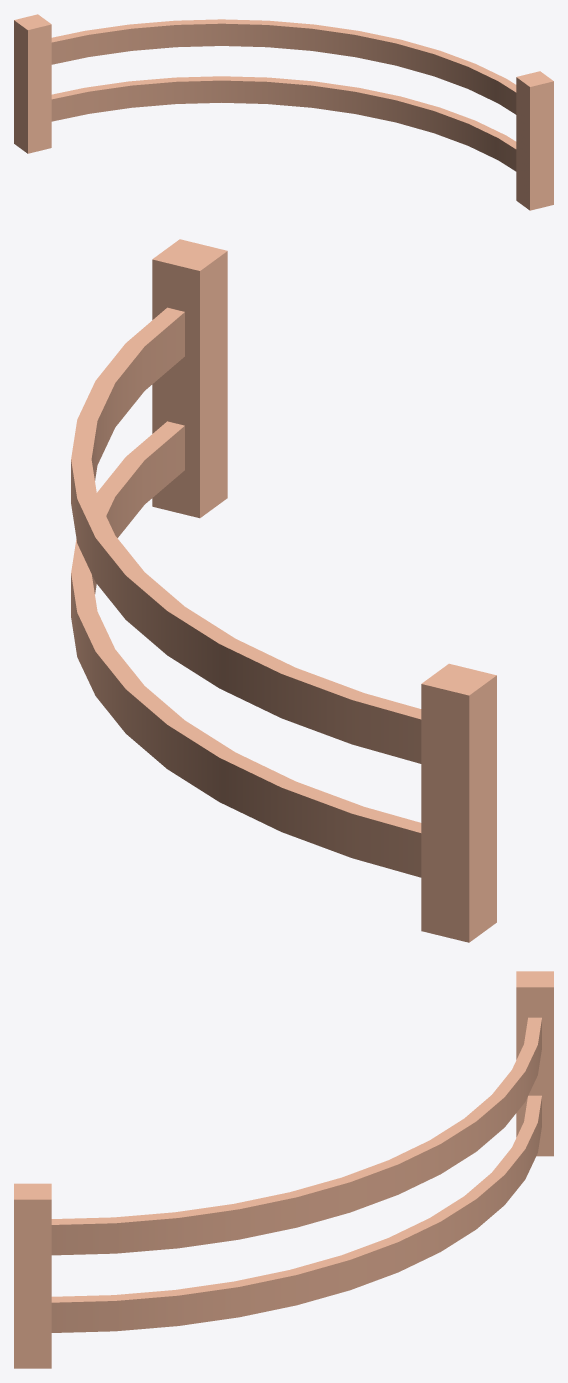
The model's file is fence_bend.glb.
The picture shows the model from 3 angles, top to bottom: view 1: azimuth 30°, elevation 25°; view 2: azimuth 150°, elevation 25°; view 3: azimuth 270°, elevation 25°; orthographic projection. The views are drawn at different scales.
Parts seen in each view (by area): view 1: fence_bend; view 2: fence_bend; view 3: fence_bend.
Part boxes in pixels (x1,y1,x2,y2): fence_bend: (14,14,553,210); fence_bend: (71,239,496,942); fence_bend: (14,971,553,1368).
Bounding box in the file's own units: 1 × 0.345 × 1.
